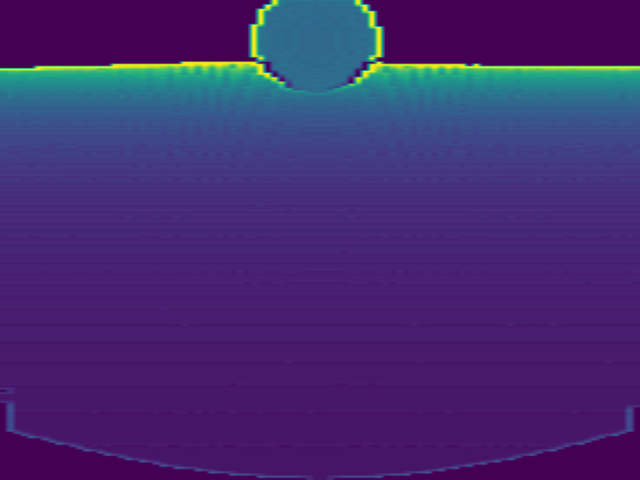sphere: (249, 3, 384, 96)
